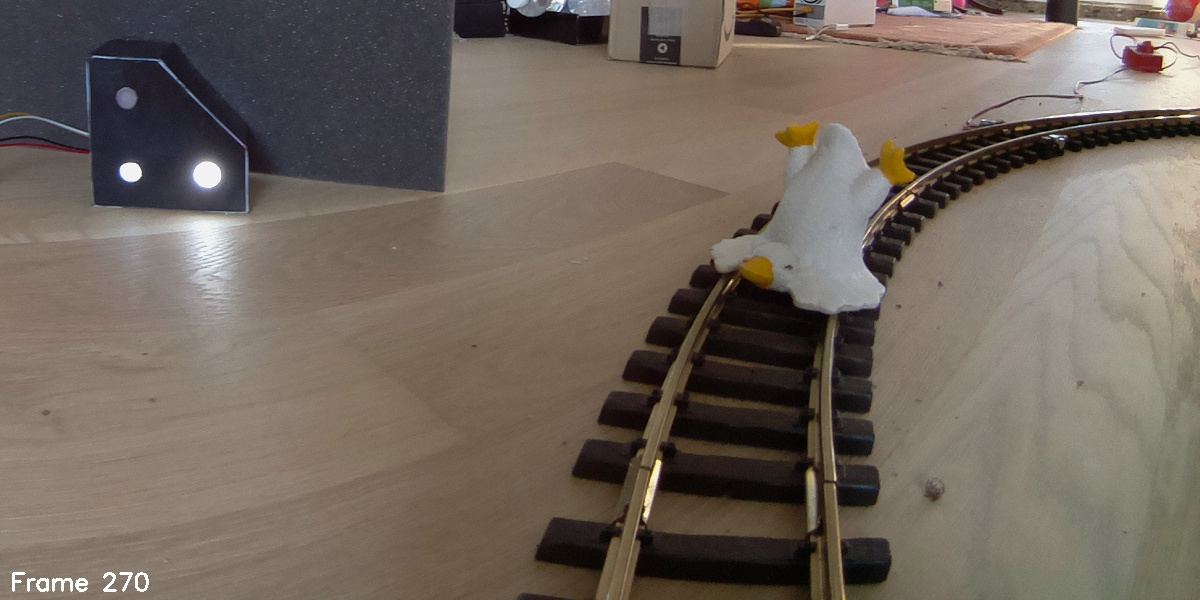Ente: (708, 122, 917, 319)
Halt: (86, 39, 250, 214)
